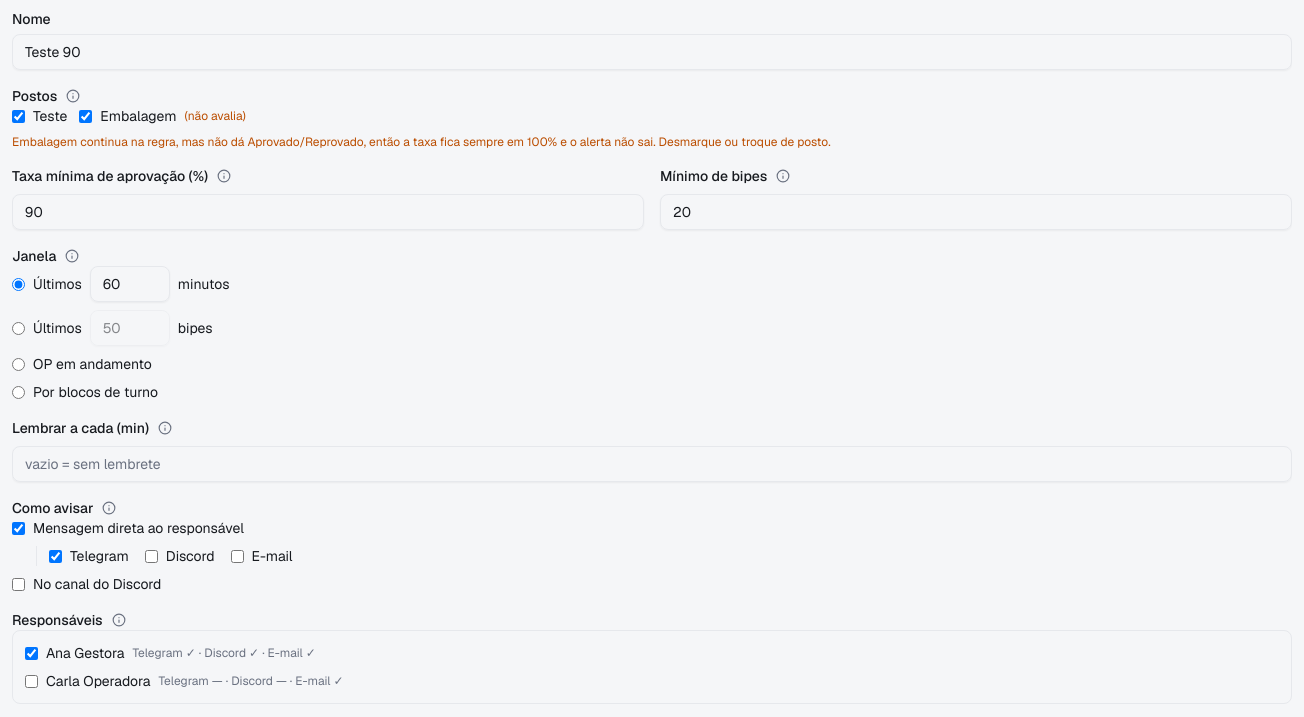
it: RegraForm — postos por tipo de regra › desmarcado, o posto fica na lista mas o aviso sai
Click the checkbox labelled "Embalagem".
click(86, 116)  # box [79,110,92,122]
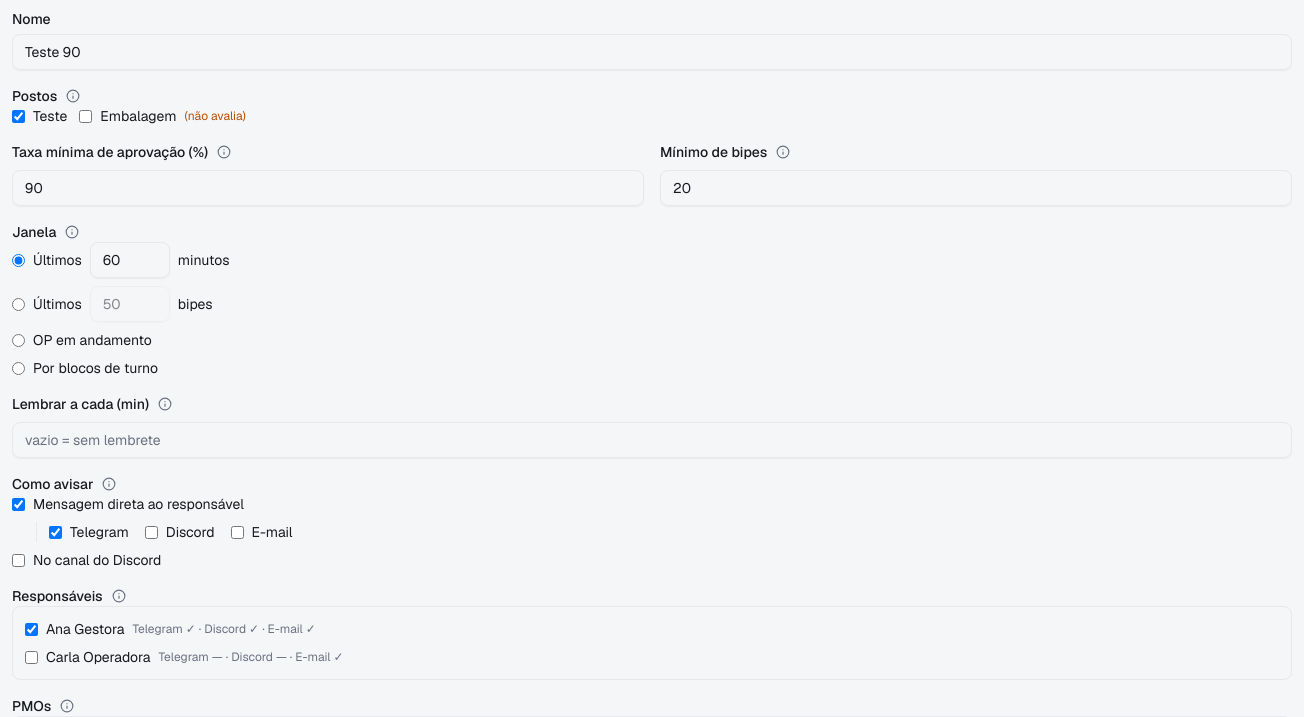
Expected: the checkbox labelled "Embalagem" is not checked, [79,110,92,122]
Expected: the message is gone
